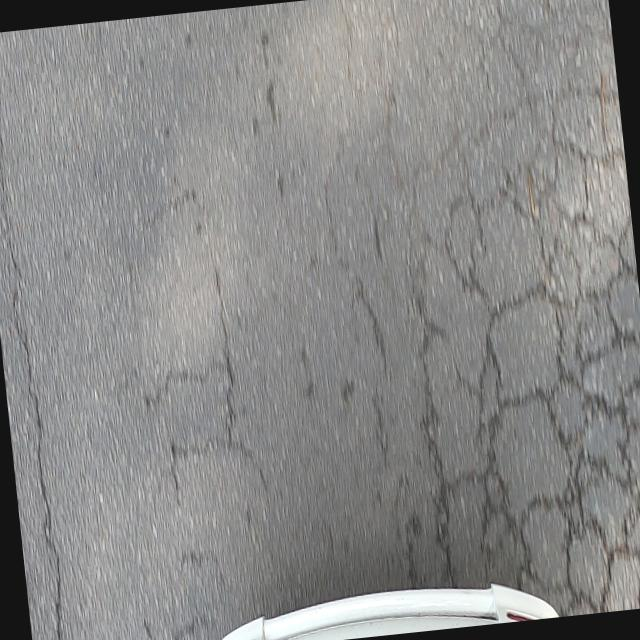Retak-Buaya: (422, 39, 640, 615)
Retak-Memanjang: (0, 162, 64, 640)
